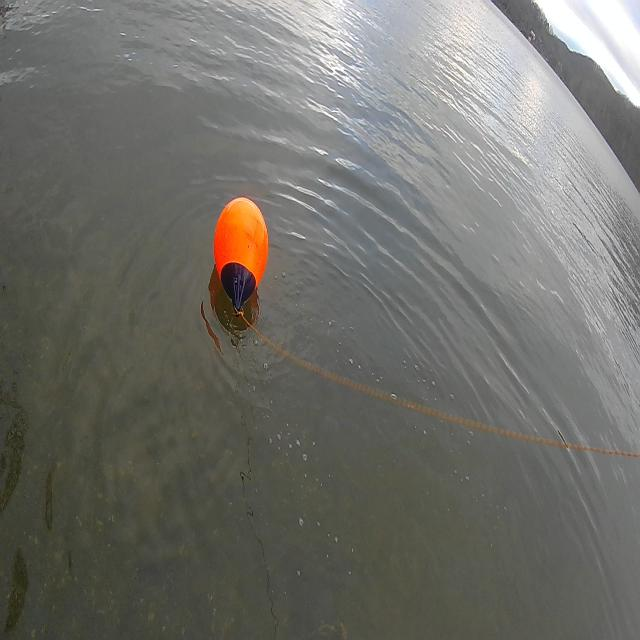Buoy: (208, 184, 280, 338)
